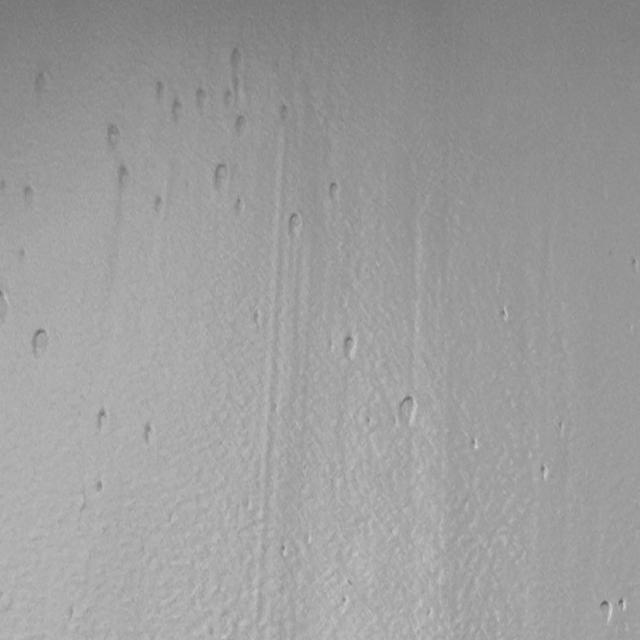pin holes: (29, 325, 53, 360), (394, 393, 418, 427), (212, 162, 232, 195), (33, 70, 54, 97), (93, 406, 113, 434), (105, 121, 124, 150), (284, 213, 304, 240), (341, 333, 360, 361), (597, 600, 616, 626), (193, 86, 212, 111), (117, 164, 135, 190), (232, 116, 250, 142), (227, 47, 244, 74), (141, 423, 159, 448), (250, 299, 264, 331), (170, 96, 187, 122), (21, 184, 39, 208), (152, 78, 168, 105), (152, 194, 169, 219), (324, 180, 342, 203), (275, 540, 293, 562), (536, 461, 553, 484), (0, 289, 13, 319), (14, 246, 32, 267), (277, 102, 294, 124), (231, 73, 243, 103), (232, 198, 248, 220), (616, 594, 631, 616), (223, 88, 236, 112), (554, 418, 568, 437), (499, 306, 513, 324), (337, 592, 351, 610), (324, 333, 334, 358), (94, 479, 108, 495), (469, 438, 482, 453), (628, 256, 638, 275), (0, 179, 9, 197)
